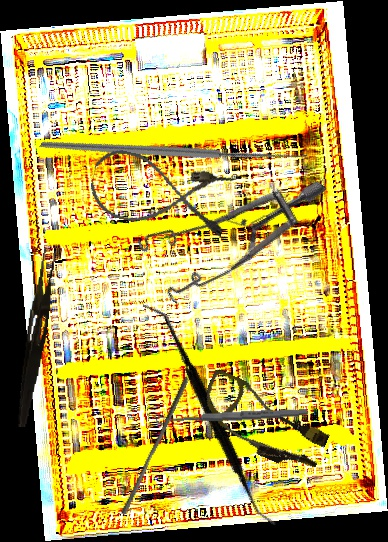Cannula: (191, 368, 336, 478), (85, 145, 235, 242)
Dressing Forceps: (15, 248, 57, 429)
Hook Surgical: (38, 18, 315, 273)
Pusher: (120, 373, 190, 518)
Spatula Surgical: (79, 301, 340, 528)
Speculum: (121, 116, 327, 337)
Surgical Spoon: (155, 407, 309, 425)
